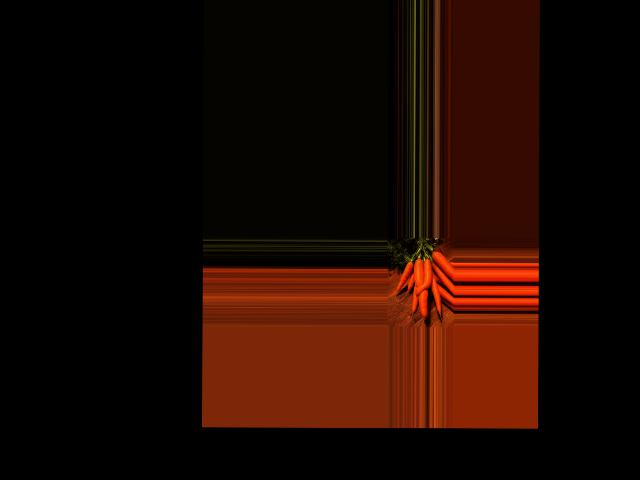carrot: (431, 248, 454, 279)
